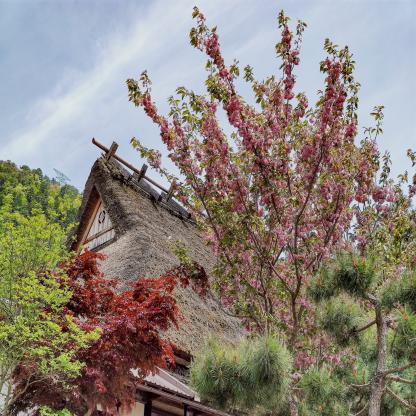YaeSakura: (134, 0, 416, 383)
